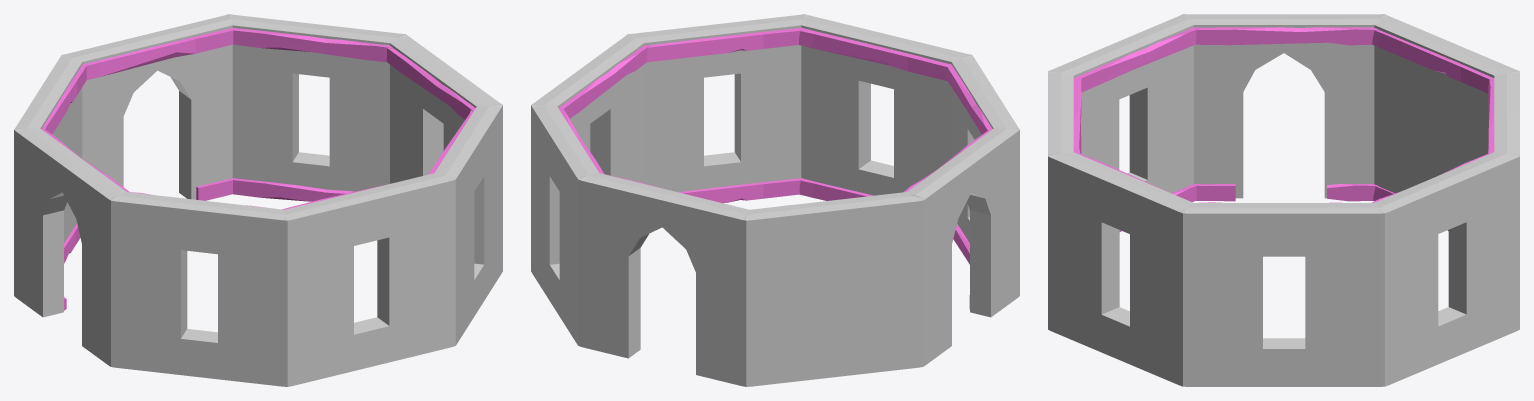
File: SM_Tower_Round_7m_Entrance_L_Fantasy_Base.fbx
3 renders of one model, left to right at view 1: azimuth 30°, elevation 25°; view 2: azimuth 150°, elevation 25°; view 3: azimuth 270°, elevation 25°, orthographic. The views are drawn at different scales.
Visible parts, largest first — view 1: SM_Tower_Round_7m_Entrance_L_Fantasy_Base; view 2: SM_Tower_Round_7m_Entrance_L_Fantasy_Base; view 3: SM_Tower_Round_7m_Entrance_L_Fantasy_Base.
Part boxes in pixels (bbox=[...]): SM_Tower_Round_7m_Entrance_L_Fantasy_Base: bbox=[14, 14, 502, 386]; SM_Tower_Round_7m_Entrance_L_Fantasy_Base: bbox=[531, 14, 1019, 386]; SM_Tower_Round_7m_Entrance_L_Fantasy_Base: bbox=[1048, 14, 1519, 386].
Size of the model in its own units: 7.4 by 3.03 by 7.4.
